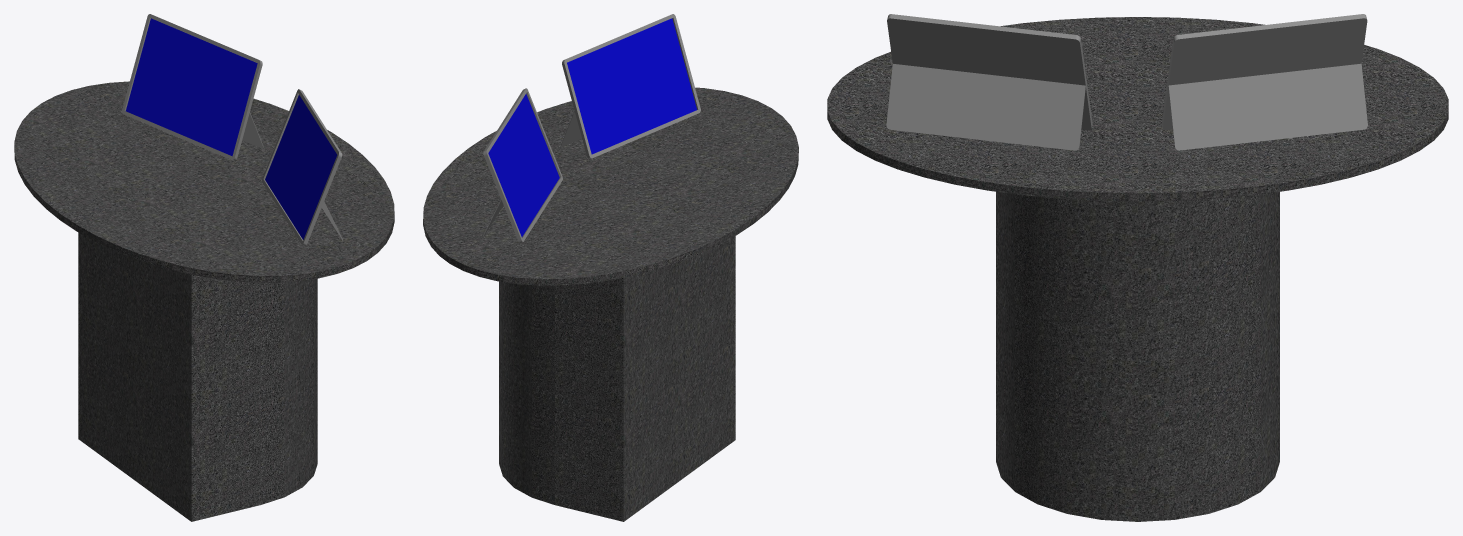
File: hbxliveTeachingStand.dae
3 views of the same model, side by side, from view 1: azimuth 30°, elevation 25°; view 2: azimuth 150°, elevation 25°; view 3: azimuth 270°, elevation 25° (orthographic). The views are drawn at different scales.
Parts seen in each view (by area): view 1: SketchUp (×2), skp7B63 (×4); view 2: SketchUp (×2), skp7B63 (×4); view 3: SketchUp (×2), skp7B63 (×2).
Part boxes in pixels (bbox=[...]): SketchUp (×2): bbox=[14, 81, 394, 521]; skp7B63 (×4): bbox=[122, 14, 343, 246]; SketchUp (×2): bbox=[423, 87, 798, 521]; skp7B63 (×4): bbox=[482, 14, 700, 243]; SketchUp (×2): bbox=[827, 17, 1448, 521]; skp7B63 (×2): bbox=[886, 14, 1367, 150].
Size of the model in its own units: 35.87 by 53.44 by 44.58.
Materials: 3 (1 with a texture image).
